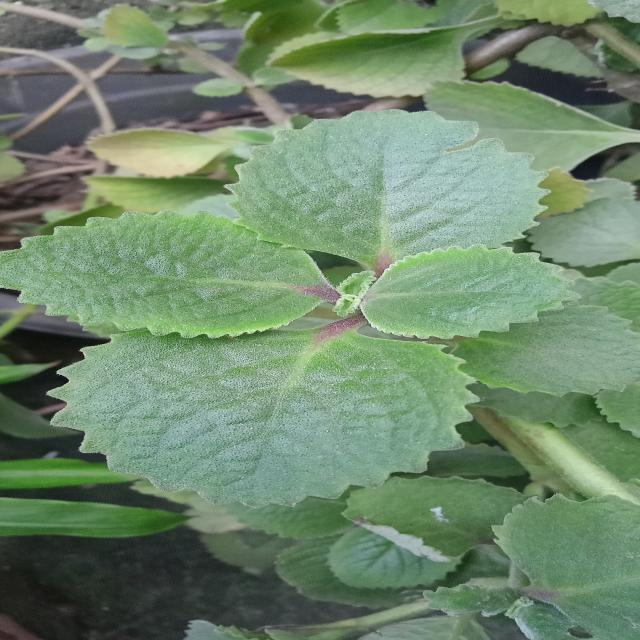Oregano: (70, 104, 602, 464)
